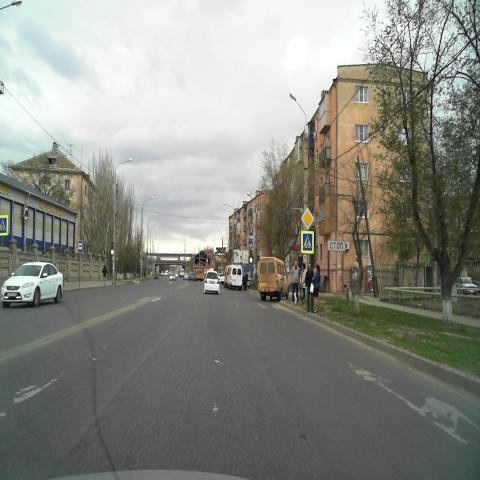6_16: (328, 240, 346, 251)
